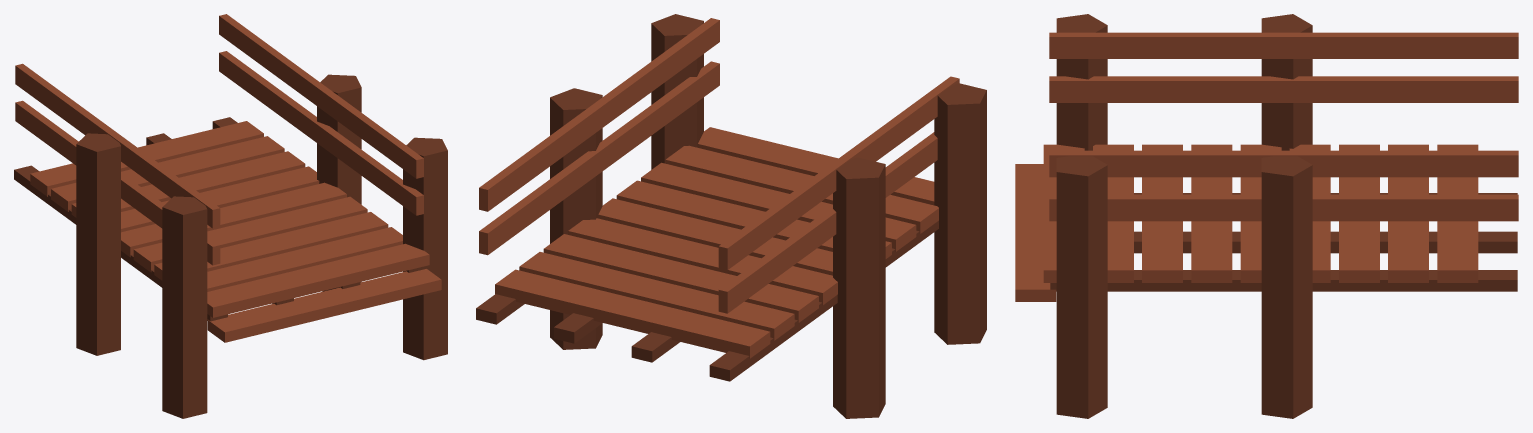
Rendered from Entrada Puente.fbx.
The picture shows the model from 3 angles, left to right: view 1: azimuth 30°, elevation 25°; view 2: azimuth 150°, elevation 25°; view 3: azimuth 270°, elevation 25°; orthographic projection. The views are drawn at different scales.
Visible parts, largest first — view 1: Cube.001, Cylinder, Cylinder.002, Cylinder.001, Cube.002, Cube.004, Cube.003, Cube.006, Cube.005, Cylinder.003, Cube; view 2: Cube.001, Cylinder.002, Cylinder, Cube.004, Cube.003, Cube.006, Cube.005, Cube, Cylinder.003, Cylinder.001; view 3: Cube.001, Cylinder.001, Cylinder.003, Cube.006, Cube.005, Cube.004, Cube.003, Cube, Cube.002, Cylinder.002, Cylinder.
Part boxes in pixels (left/top/right/bottom): Cube.001: left=30, top=121, right=429, bottom=317; Cylinder: left=162, top=196, right=207, bottom=418; Cylinder.002: left=76, top=133, right=120, bottom=355; Cylinder.001: left=403, top=137, right=447, bottom=360; Cube.002: left=207, top=269, right=441, bottom=342; Cube.004: left=219, top=14, right=423, bottom=178; Cube.003: left=219, top=51, right=423, bottom=215; Cube.006: left=15, top=63, right=220, bottom=228; Cube.005: left=15, top=100, right=220, bottom=265; Cylinder.003: left=317, top=74, right=361, bottom=291; Cube: left=14, top=117, right=426, bottom=321; Cube.001: left=495, top=127, right=938, bottom=358; Cylinder.002: left=833, top=157, right=885, bottom=418; Cylinder: left=934, top=83, right=986, bottom=344; Cube.004: left=479, top=18, right=719, bottom=211; Cube.003: left=479, top=61, right=719, bottom=255; Cube.006: left=718, top=76, right=959, bottom=270; Cube.005: left=718, top=132, right=937, bottom=313; Cube: left=476, top=220, right=938, bottom=381; Cylinder.003: left=550, top=88, right=602, bottom=349; Cylinder.001: left=651, top=14, right=703, bottom=169; Cube.001: left=1043, top=144, right=1478, bottom=282; Cylinder.001: left=1056, top=156, right=1107, bottom=418; Cylinder.003: left=1261, top=156, right=1312, bottom=418; Cube.006: left=1049, top=32, right=1518, bottom=58; Cube.005: left=1049, top=76, right=1518, bottom=102; Cube.004: left=1049, top=150, right=1518, bottom=177; Cube.003: left=1049, top=194, right=1518, bottom=221; Cube: left=1050, top=193, right=1517, bottom=291; Cube.002: left=1015, top=164, right=1056, bottom=301; Cylinder.002: left=1261, top=14, right=1312, bottom=150; Cylinder: left=1056, top=14, right=1107, bottom=150.
Bounding box in the file's own units: 563 × 394 × 738.
